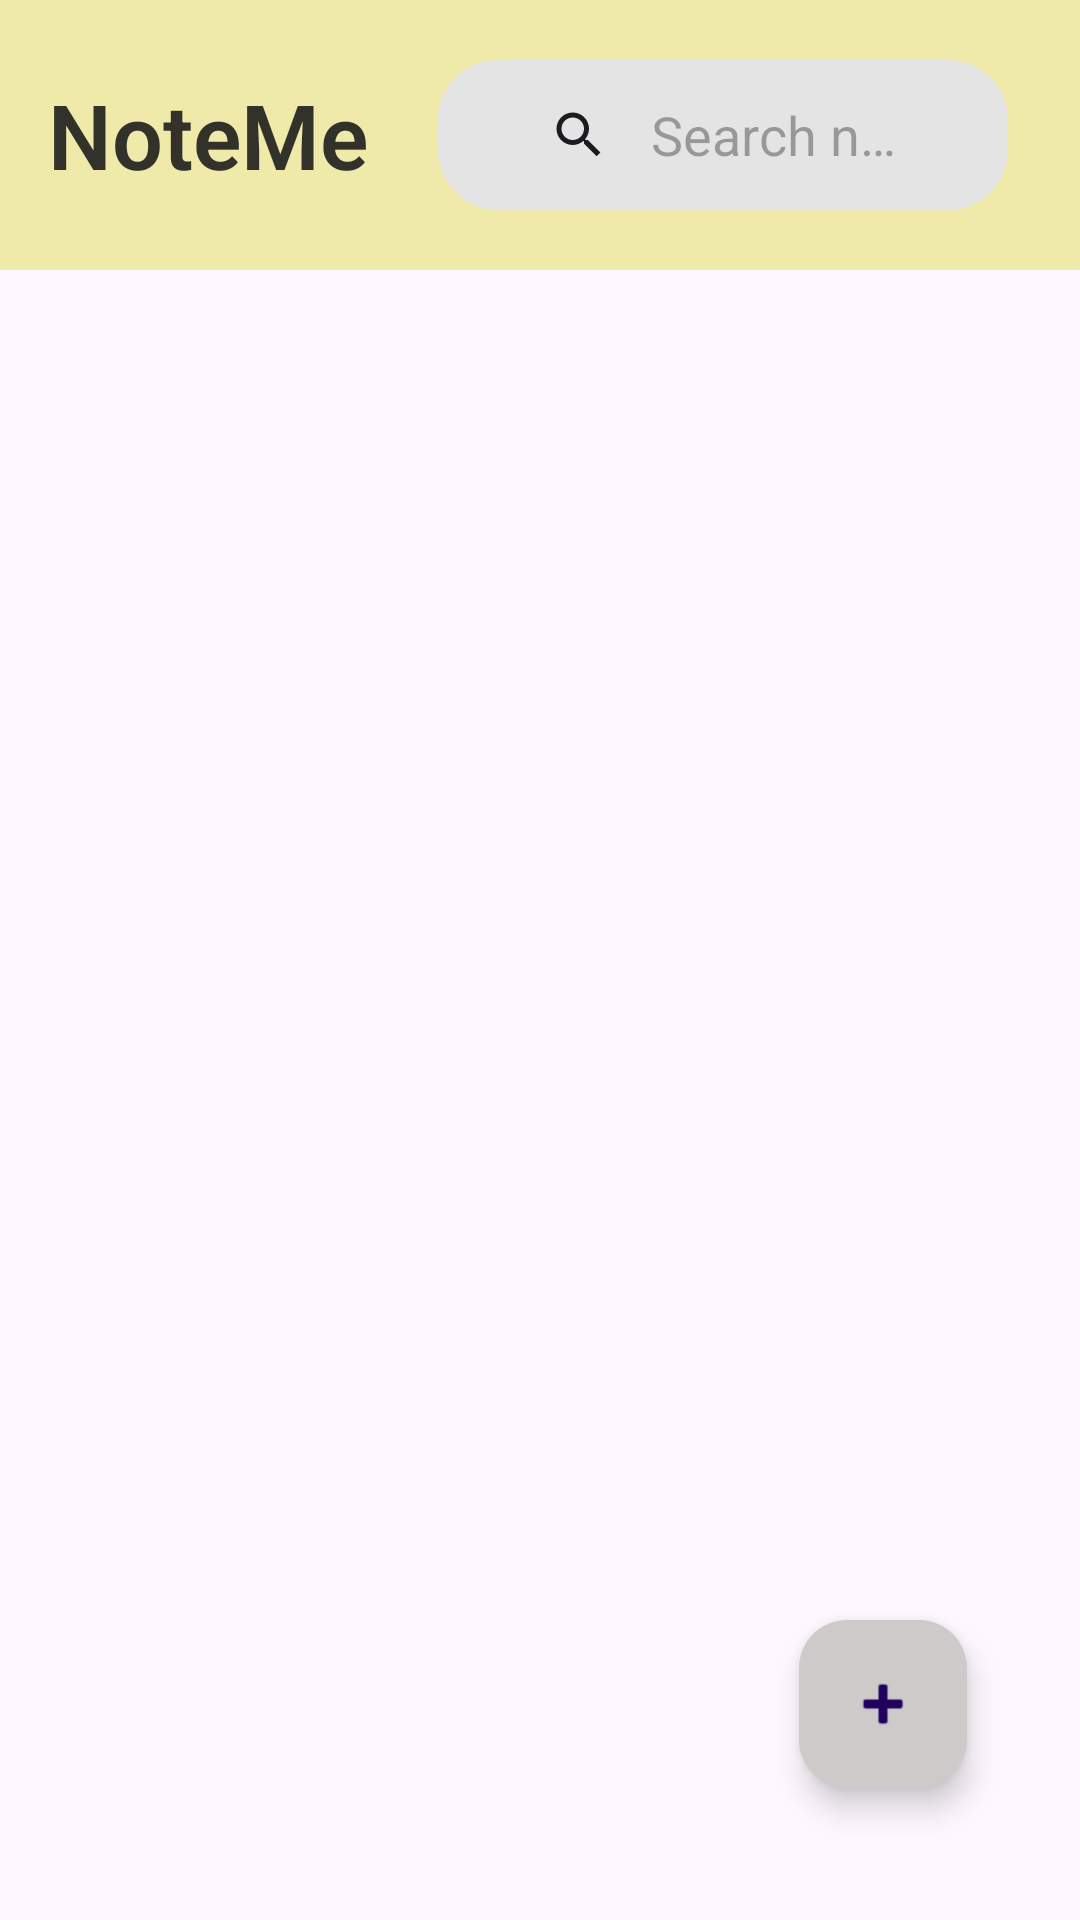

Where icons sit on this 1080 x 1920 app screen, as (x1, y1, x2, y2):
add: (799, 1620, 967, 1788)
